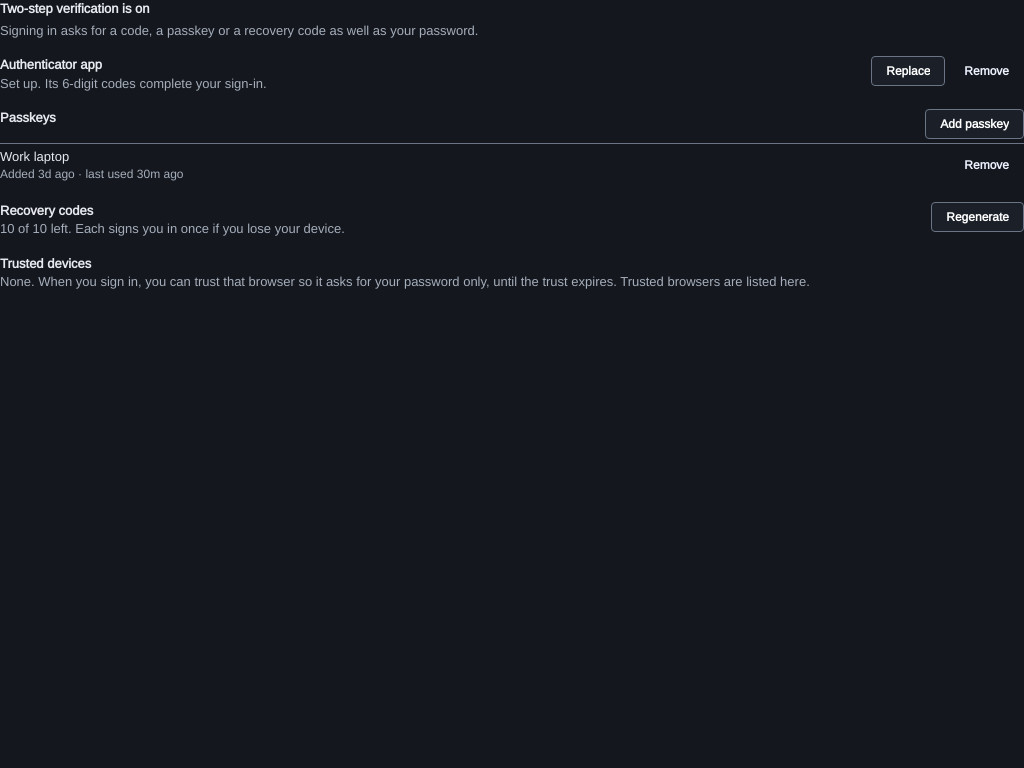
Test case: TwoStepSection › regenerates the recovery codes only after saying the old ones stop working, and shows the new ones once
Click the button "Regenerate".
click(978, 217)  # box x1=931 y1=202 x2=1023 y2=232
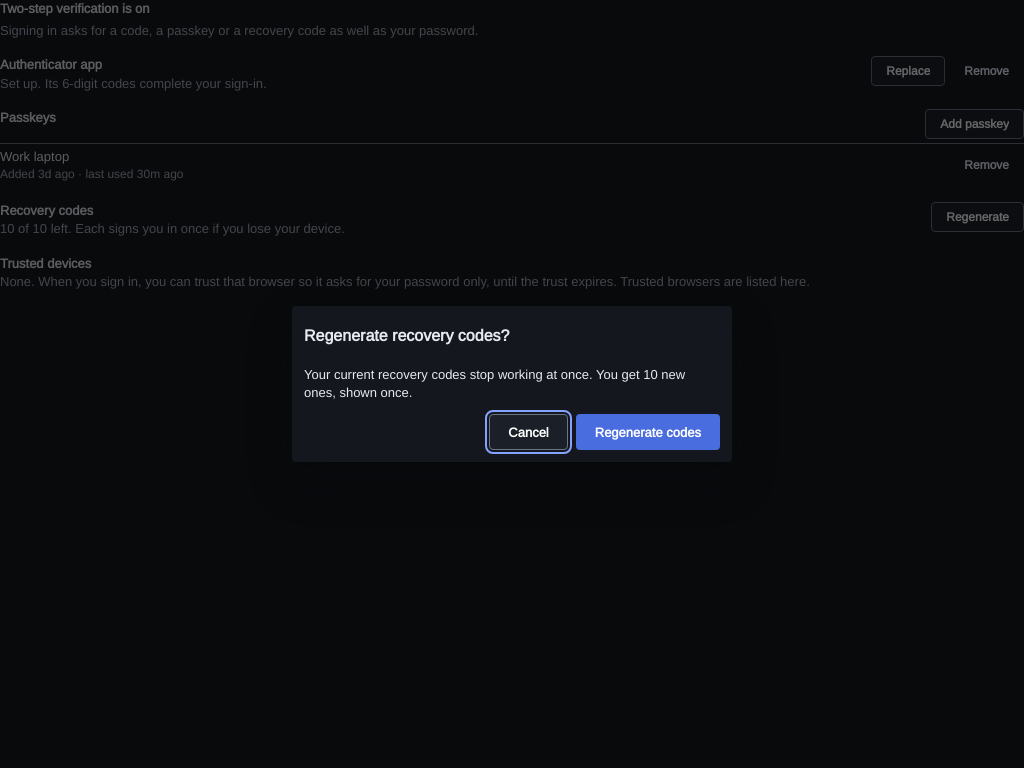
Check: the text "Your current recovery codes stop working at once" is shown, box x1=304 y1=366 x2=685 y2=401
Click the button "Regenerate codes".
click(648, 432)  # box x1=576 y1=414 x2=720 y2=450
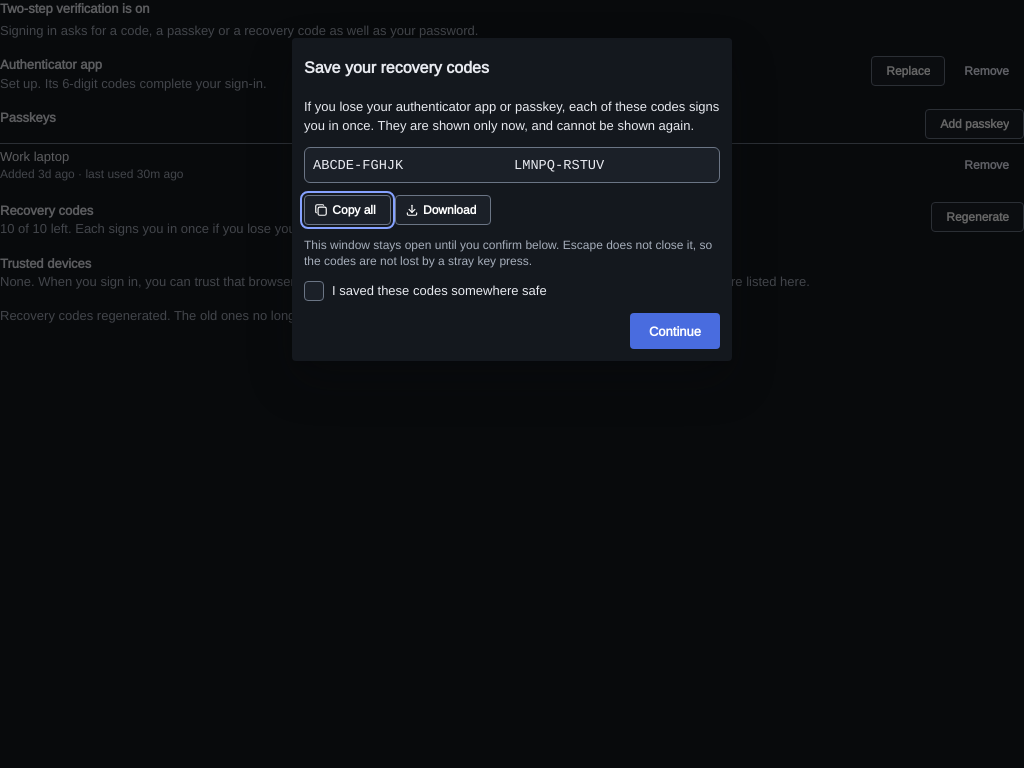
Check: the list item "ABCDE-FGHJK" is shown, box x1=313 y1=156 x2=403 y2=173
Check: the text "Recovery codes regenerated. The old ones no longer work." is shown, box x1=0 y1=307 x2=342 y2=324
